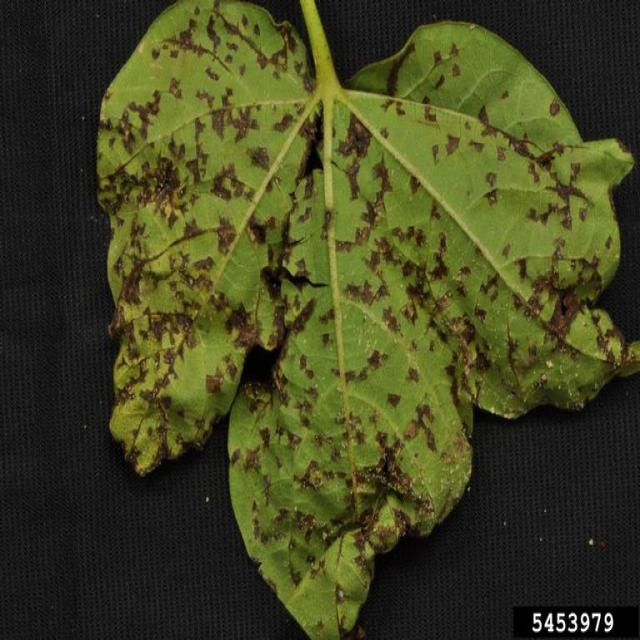Bacterial Blight: (148, 46, 494, 414)
